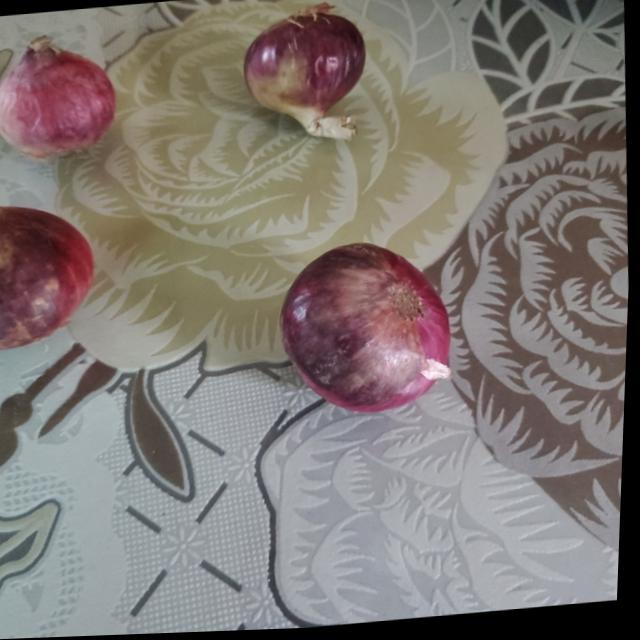onion: (281, 234, 463, 419), (0, 31, 122, 162), (241, 5, 373, 123), (0, 196, 98, 351)
